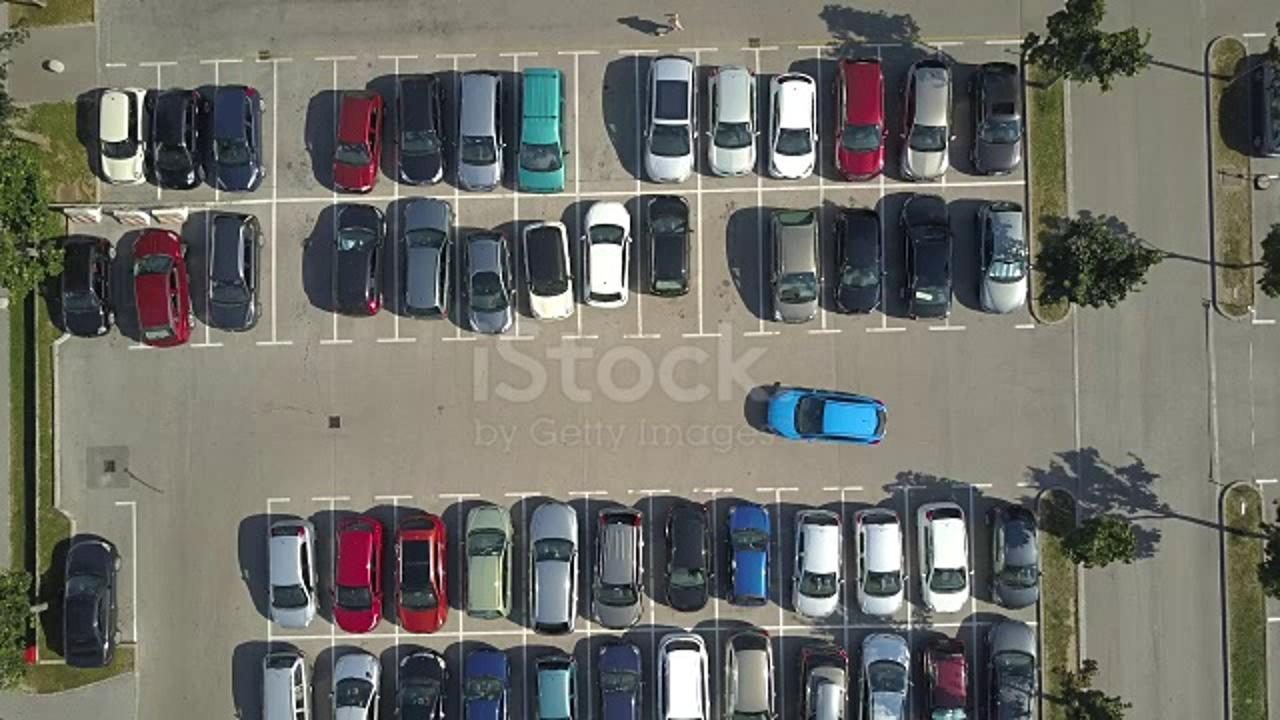empty: (694, 199, 766, 312), (570, 80, 643, 190), (276, 80, 339, 191), (276, 204, 334, 315)
occupied: (755, 383, 892, 448), (60, 535, 124, 672), (197, 206, 265, 333), (829, 49, 894, 179), (324, 513, 393, 634), (510, 62, 572, 196), (650, 496, 719, 616), (718, 499, 784, 623), (390, 515, 458, 634), (892, 191, 957, 315), (582, 502, 662, 602), (638, 55, 701, 181), (888, 55, 948, 186), (695, 65, 763, 177), (968, 58, 1029, 180), (399, 197, 459, 321), (527, 505, 591, 620), (326, 199, 388, 316), (919, 504, 981, 621), (784, 505, 846, 622), (261, 516, 323, 633), (459, 500, 521, 617), (458, 222, 520, 339), (56, 225, 118, 342), (128, 227, 190, 344), (211, 81, 273, 198), (976, 196, 1038, 313), (389, 73, 451, 190), (767, 210, 829, 327), (151, 90, 218, 195), (983, 505, 1045, 615), (340, 87, 401, 195), (638, 191, 697, 300), (520, 216, 573, 335), (90, 86, 150, 186), (598, 639, 659, 720)
